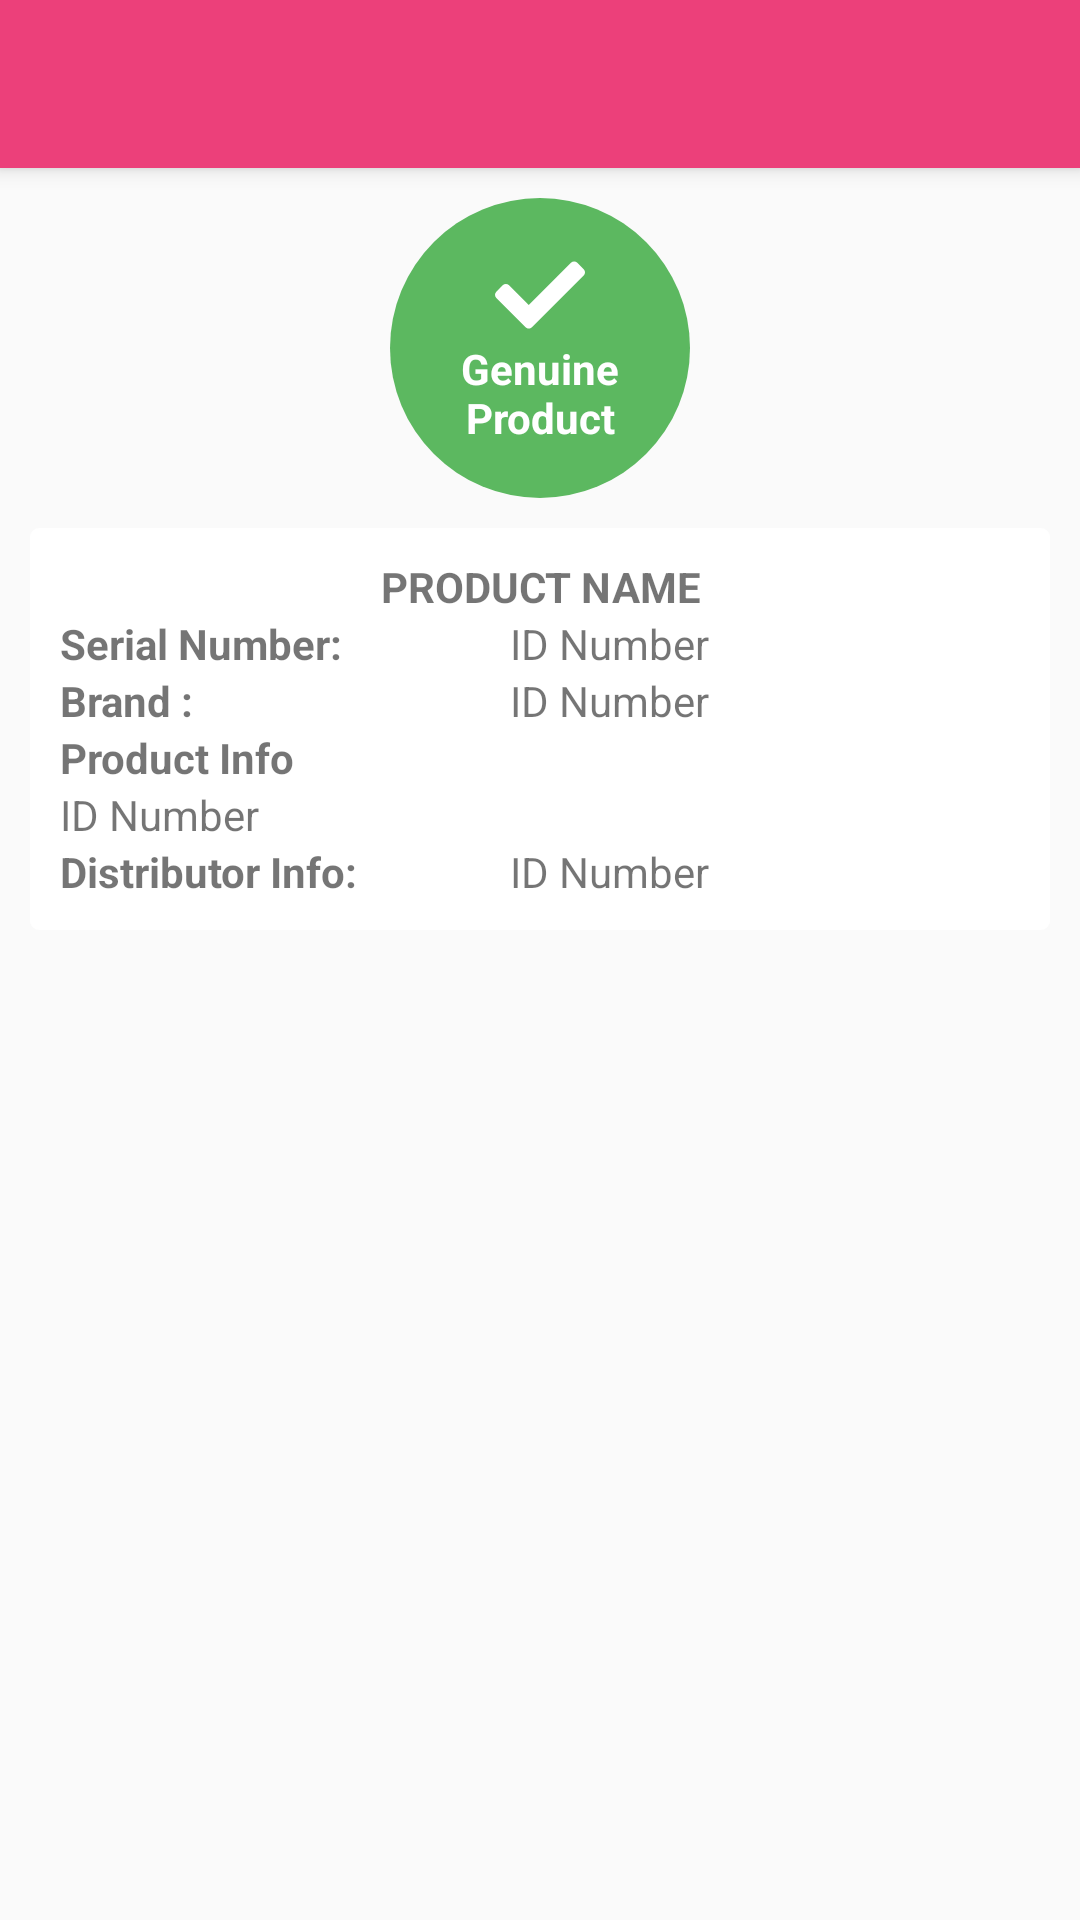

Screen size 1080 x 1920. Icon name, then its center in pixels as [x,y]:
check: [540,295]
